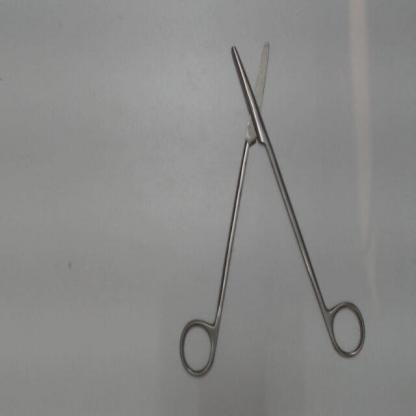9 Metzenbaum Scissors: (171, 33, 372, 387)
